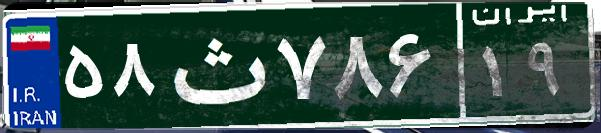1: (475, 38, 525, 113)
5: (57, 26, 110, 107)
6: (385, 28, 445, 110)
7: (273, 28, 330, 110)
8: (330, 28, 385, 110), (110, 28, 158, 105)
9: (525, 38, 570, 115)
ث: (158, 15, 273, 115)
